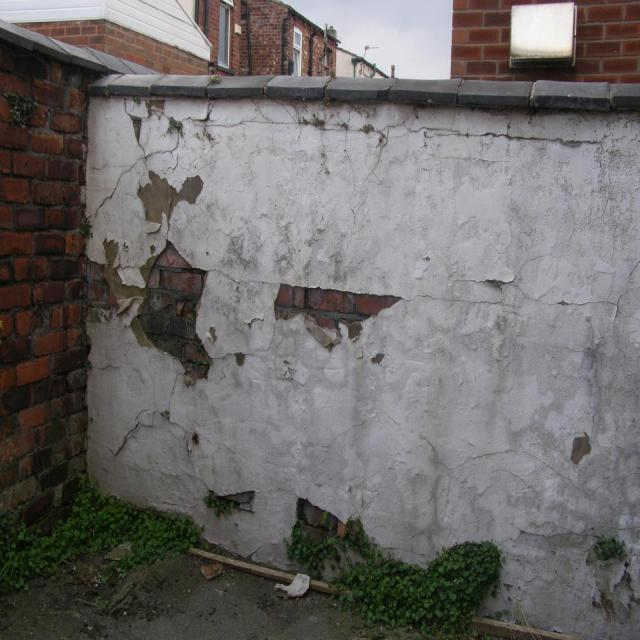crack: (94, 240, 214, 382), (111, 265, 272, 368), (207, 488, 376, 583), (3, 69, 84, 229), (274, 282, 401, 345), (149, 263, 207, 298)
crack_mold_damp_spalling_cor: (94, 240, 214, 382), (111, 265, 272, 368), (207, 488, 376, 583), (3, 69, 84, 229), (274, 282, 401, 345), (149, 263, 207, 298)
damp: (90, 82, 634, 628), (0, 28, 91, 521)
